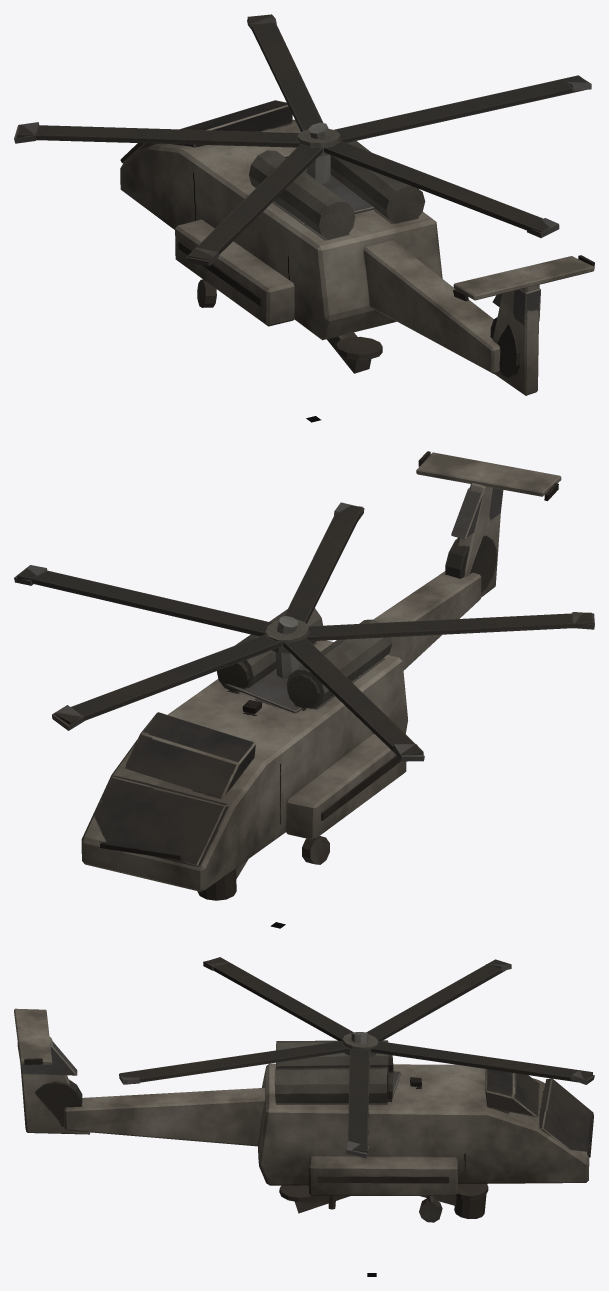
File: ord_zenith_wreck.fbx
3 views of the same model, one above another, from view 1: azimuth 30°, elevation 25°; view 2: azimuth 150°, elevation 25°; view 3: azimuth 270°, elevation 25° (orthographic). The views are drawn at different scales.
Visible parts, largest first — view 1: base_bar, rotor_bar, nano_bar, tailRotor_bar; view 2: base_bar, rotor_bar, tailRotor_bar, nano_bar; view 3: base_bar, rotor_bar, nano_bar, tailRotor_bar.
Part boxes in pixels (box(x1,y1,x2,y2)): base_bar: box(120, 100, 594, 395); rotor_bar: box(14, 14, 591, 266); nano_bar: box(327, 332, 382, 373); tailRotor_bar: box(490, 317, 519, 377); base_bar: box(81, 451, 561, 891); rotor_bar: box(14, 502, 594, 761); tailRotor_bar: box(445, 535, 496, 592); nano_bar: box(197, 859, 248, 900); base_bar: box(14, 1008, 593, 1222); rotor_bar: box(119, 957, 594, 1158); nano_bar: box(279, 1184, 488, 1218); tailRotor_bar: box(35, 1079, 82, 1126).
Bounding box in the file's own units: 974 × 572 × 1240.
2 materials, 2 textured.
